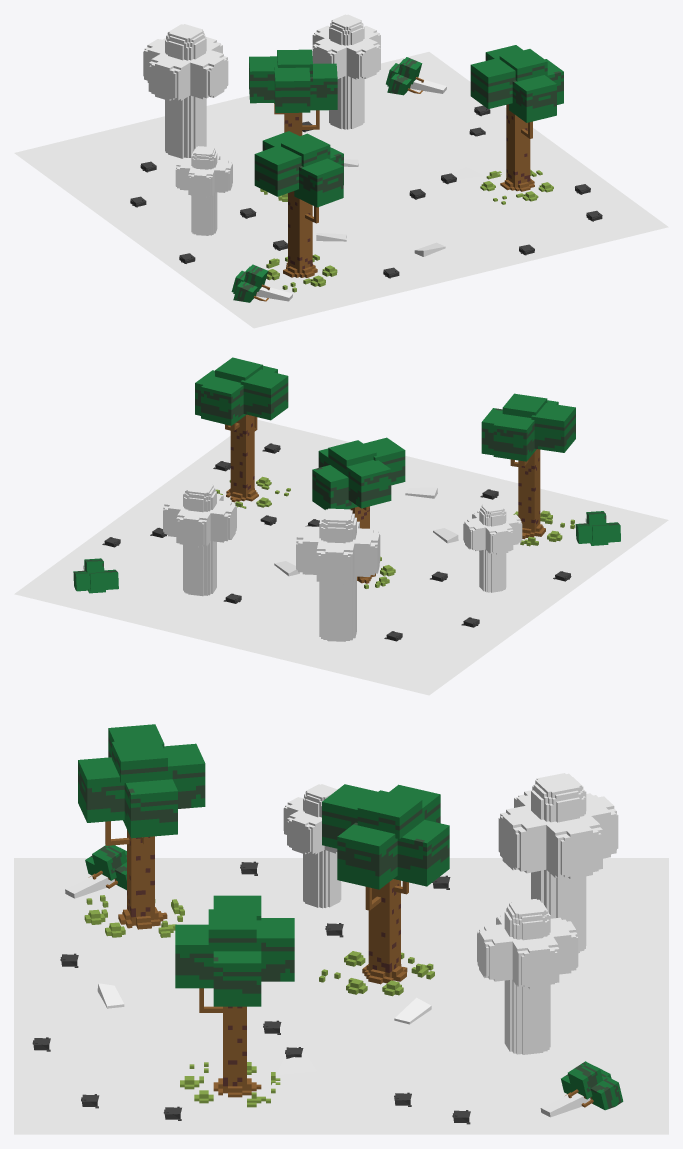
The model's file is safarichunks.glb.
The picture shows the model from 3 angles, top to bottom: view 1: azimuth 30°, elevation 25°; view 2: azimuth 150°, elevation 25°; view 3: azimuth 270°, elevation 25°; orthographic projection. The views are drawn at different scales.
Parts seen in each view (by area): view 1: C.001, TREE 02.006, TREE 02.004, Object_3.004, TREE 02.007, Object_3.002, Object_3.003, pond.001, Trunt_top.003, Trunt_top.004; view 2: C.001, TREE 02.004, TREE 02.006, Object_3.004, TREE 02.007, Object_3.002, Object_3.003, Trunt_top.003, Trunt_top.004, pond.001; view 3: C.001, TREE 02.007, TREE 02.006, TREE 02.004, Object_3.004, Object_3.002, pond.001, Object_3.003, Trunt_top.004, Trunt_top.003.
Part boxes in pixels (x1,y1,x2,y2): C.001: (14,52,668,328); TREE 02.006: (254,131,343,292); TREE 02.004: (470,45,563,204); Object_3.004: (143,24,228,158); TREE 02.007: (249,49,337,201); Object_3.002: (312,14,380,129); Object_3.003: (175,146,232,235); pond.001: (424,134,506,178); Trunt_top.003: (231,264,292,302); Trunt_top.004: (386,57,446,95); C.001: (14,419,668,695); TREE 02.004: (195,357,290,508); TREE 02.006: (481,393,575,546); Object_3.004: (296,508,380,641); TREE 02.007: (312,437,405,588); Object_3.002: (163,482,236,596); Object_3.003: (463,502,522,592); Trunt_top.003: (575,511,620,545); Trunt_top.004: (73,558,118,593); pond.001: (153,507,264,543); C.001: (14,858,668,1134); TREE 02.007: (319,784,449,996); TREE 02.006: (78,724,205,937); TREE 02.004: (175,895,294,1107); Object_3.004: (498,773,618,953); Object_3.002: (477,899,578,1054); pond.001: (271,1054,402,1111); Object_3.003: (283,784,341,908); Trunt_top.004: (540,1061,623,1117); Trunt_top.003: (65,845,126,898).
Bounding box in the file's own units: 221 × 72.23 × 221.
Materials: 11 (2 with a texture image).
